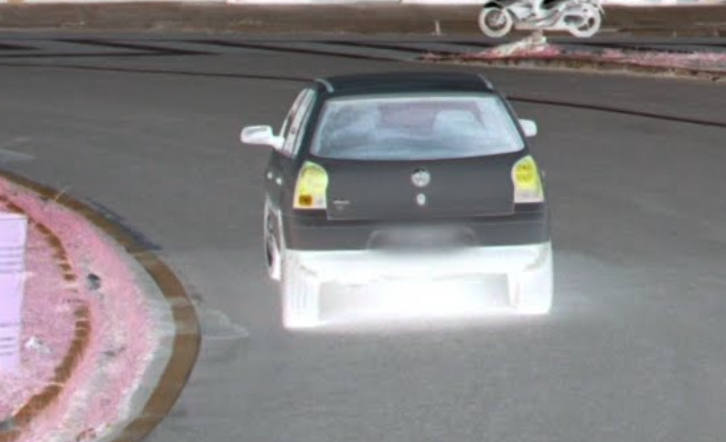car: (232, 63, 575, 331)
